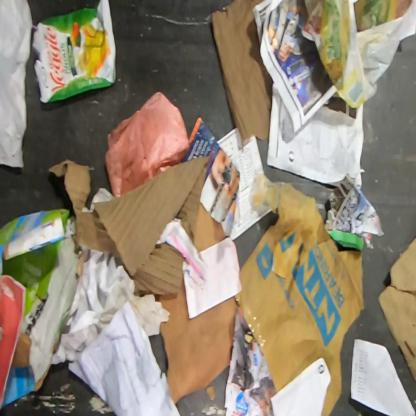cardboard: (236, 173, 364, 416), (48, 151, 226, 294), (158, 272, 235, 402), (212, 0, 273, 144), (378, 237, 416, 380), (0, 208, 69, 277)
soft_plastic: (302, 1, 416, 110), (104, 91, 190, 197), (32, 1, 117, 104)
